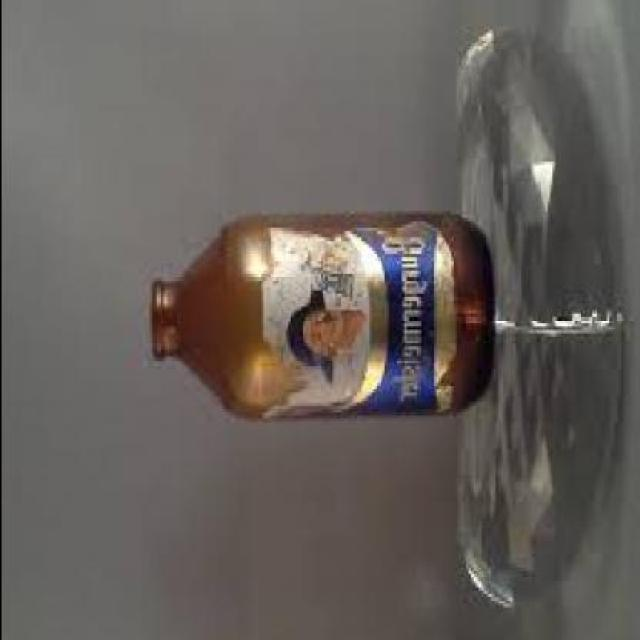GLASS: (450, 19, 613, 604), (145, 215, 487, 422)
